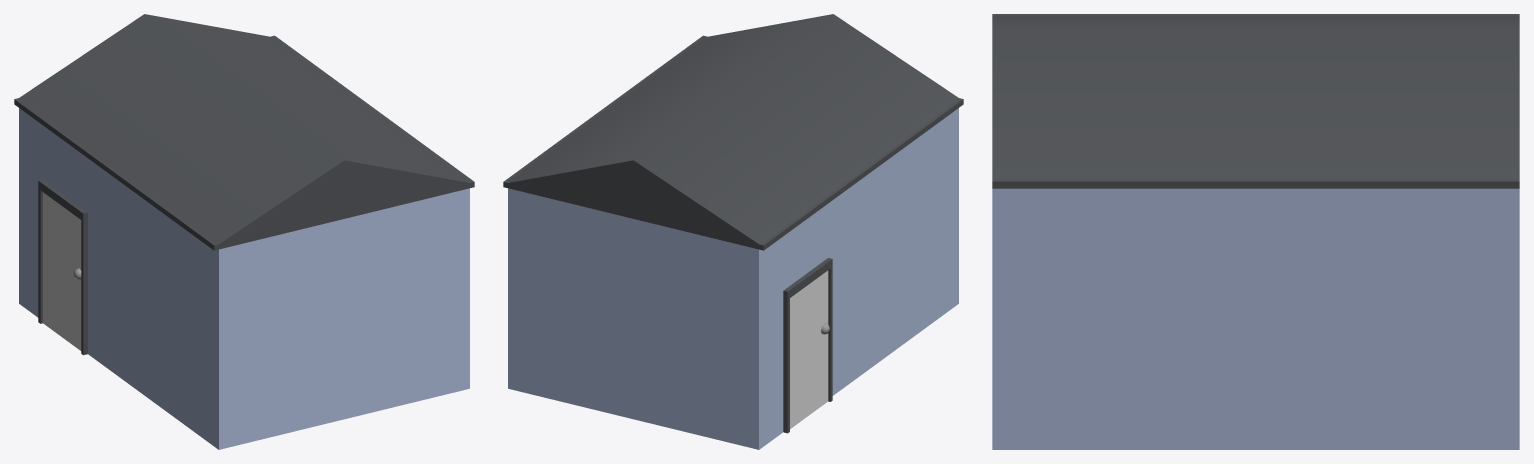
File: shed.fbx
The picture shows the model from 3 angles, left to right: view 1: azimuth 30°, elevation 25°; view 2: azimuth 150°, elevation 25°; view 3: azimuth 270°, elevation 25°; orthographic projection. The views are drawn at different scales.
Parts seen in each view (by area): view 1: Shed; view 2: Shed; view 3: Shed.
Boxes of the visible parts, box(x1,y1,x2,y2) form: Shed: box(14, 14, 474, 449); Shed: box(503, 14, 963, 449); Shed: box(992, 14, 1519, 449).
Size of the model in its own units: 413 by 388 by 542.
